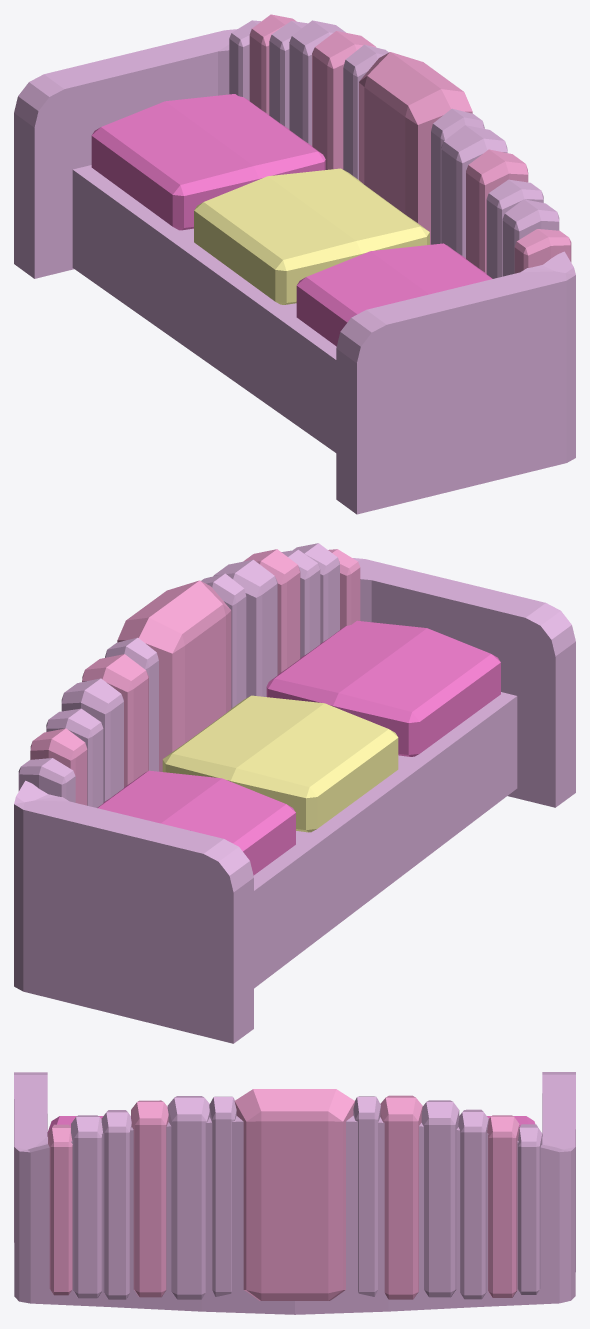
File: sofa.fbx
3 renders of one model, top to bottom at view 1: azimuth 30°, elevation 25°; view 2: azimuth 150°, elevation 25°; view 3: azimuth 270°, elevation 25°, orthographic. The views are drawn at different scales.
Visible parts, largest first — view 1: mueble; view 2: mueble; view 3: mueble.
Boxes of the visible parts, left/top/right/bottom form: mueble: left=14, top=14, right=575, bottom=514; mueble: left=14, top=543, right=575, bottom=1043; mueble: left=14, top=1072, right=575, bottom=1314.
Bounding box in the file's own units: 114 × 109 × 258.
